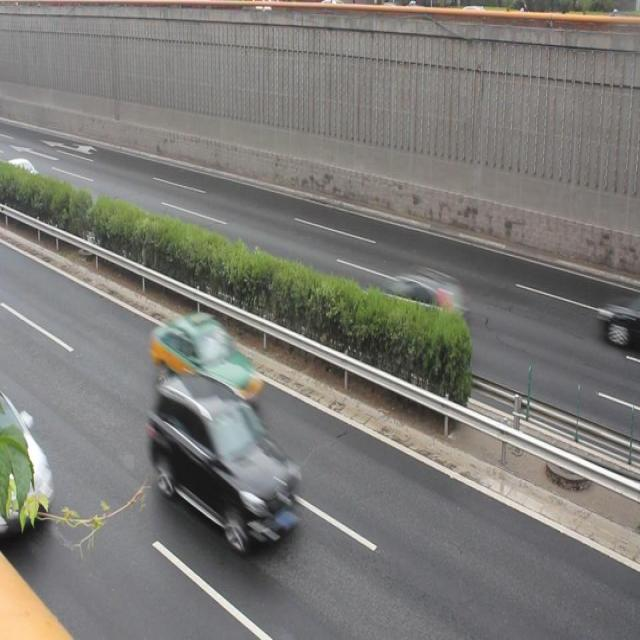car: (148, 374, 298, 546), (153, 312, 264, 406), (370, 268, 470, 348), (1, 397, 51, 540), (598, 293, 640, 358)
